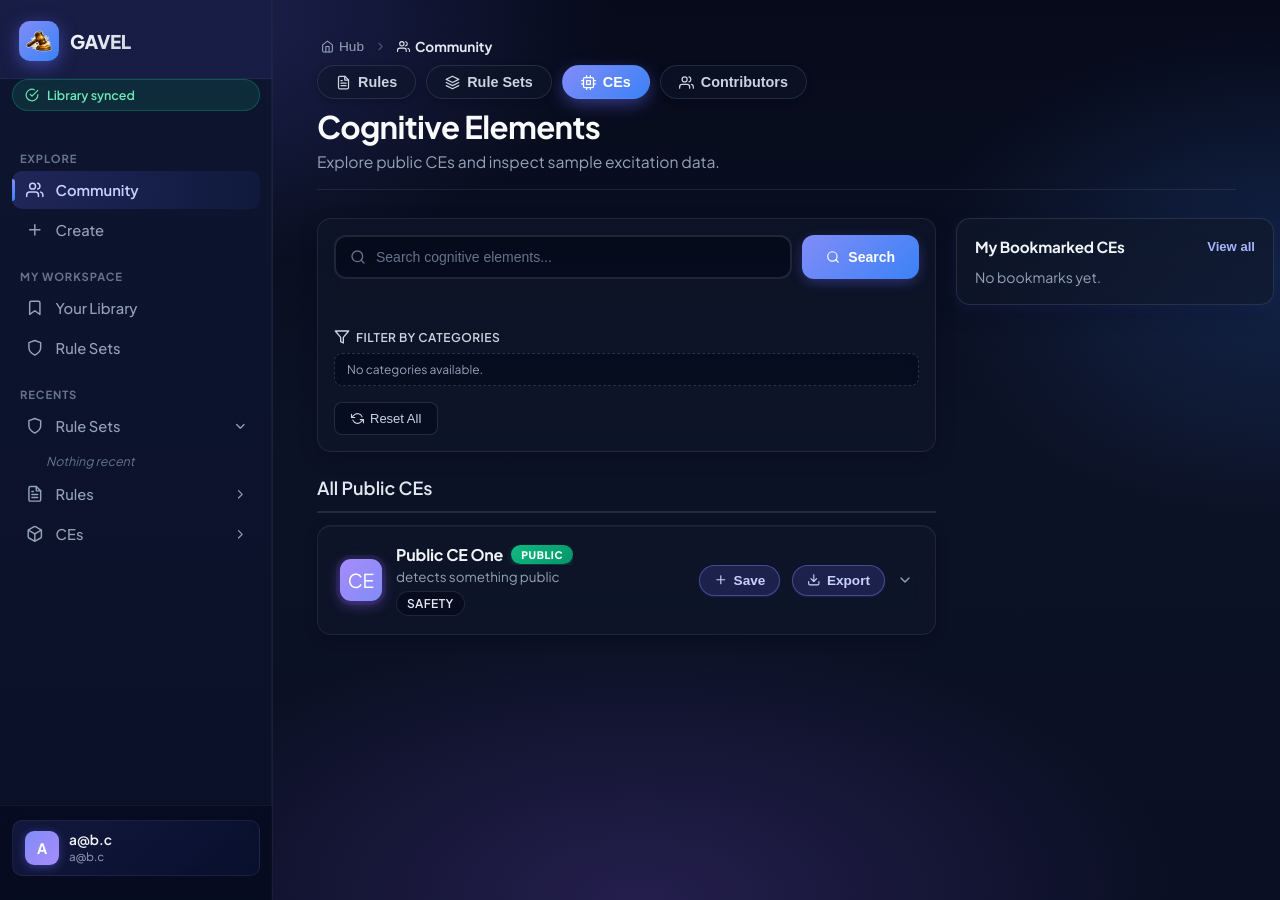
Test case: BrowseCEs — expand & lazy-load samples › swallows a dataset fetch error and still expands
What coordinates should you click on to do the following:
click the heading "Public CE One Public"
I would click on:
 (485, 554)
Its box is x1=396 y1=544 x2=573 y2=565.
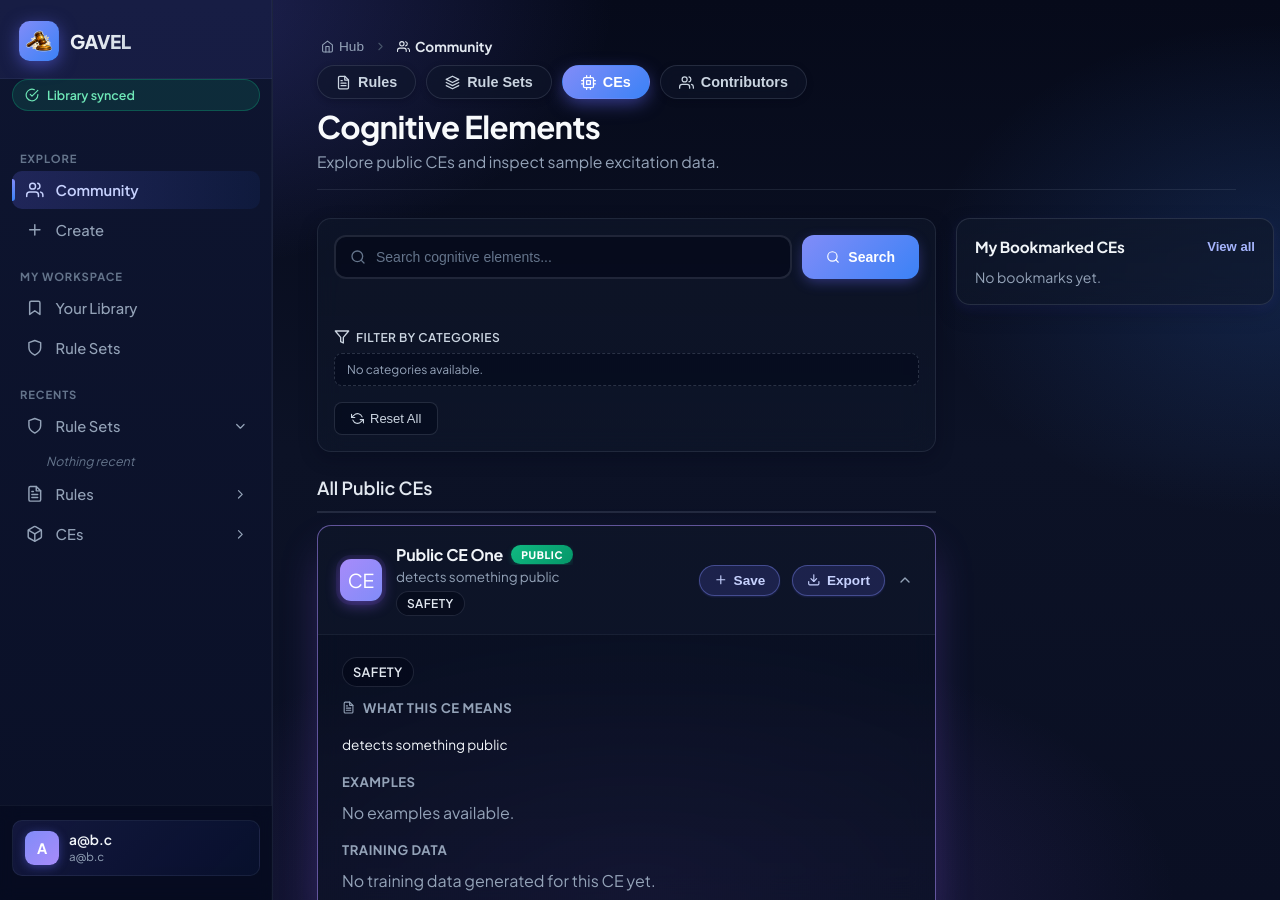
Result: the text "Examples" is shown at x1=342 y1=773 x2=416 y2=790
